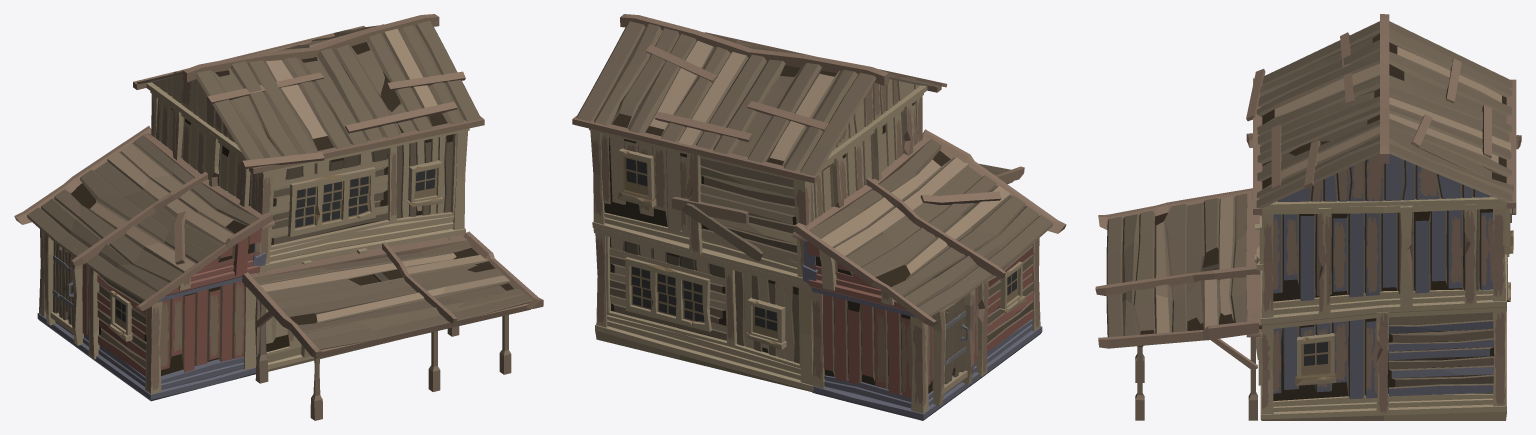
File: SM_Bld_Shanty_Preset_02.glb
3 renders of one model, left to right at view 1: azimuth 30°, elevation 25°; view 2: azimuth 150°, elevation 25°; view 3: azimuth 270°, elevation 25°, orthographic. The views are drawn at different scales.
Visible parts, largest first — view 1: SM_Bld_Shanty_Preset_02; view 2: SM_Bld_Shanty_Preset_02; view 3: SM_Bld_Shanty_Preset_02.
Part boxes in pixels (left/top/right/bottom): SM_Bld_Shanty_Preset_02: left=14, top=14, right=543, bottom=420; SM_Bld_Shanty_Preset_02: left=572, top=14, right=1066, bottom=420; SM_Bld_Shanty_Preset_02: left=1095, top=14, right=1521, bottom=420.
Size of the model in its own units: 0.0933 by 0.0662 by 0.0864.
1 material, 1 textured.
